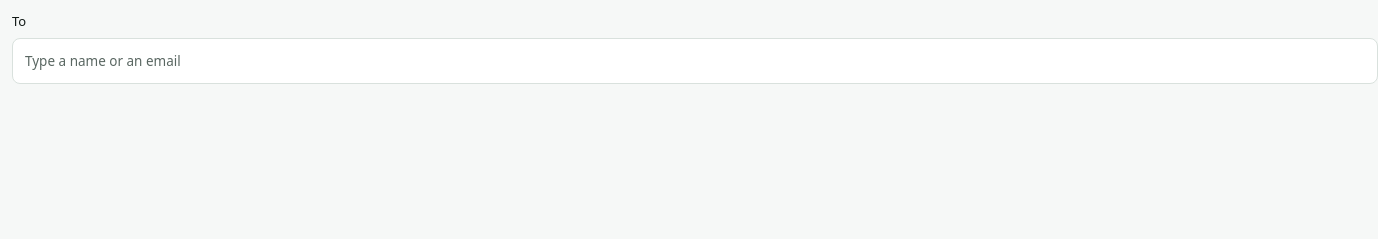
RecipientPicker › searches by name and shows company and department; arrows and Enter add
The width and height of the screenshot is (1378, 239).
Type "fa" into the dropdown labelled "To" at (695, 60), box [19,44,1371,76]
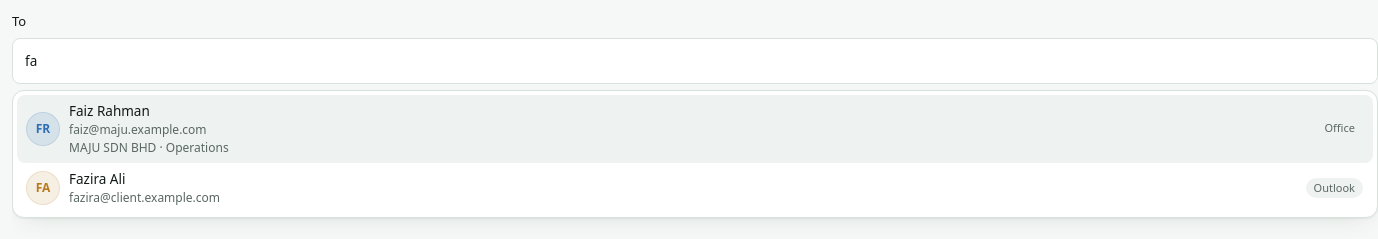
Check: the text "Faiz Rahman" is shown, box [69,102,150,120]
Check: the text "MAJU SDN BHD · Operations" is shown, box [69,139,229,156]
Press ArrowDown in the dropdown labelled "To", box [19,44,1371,76]
Press Enter in the dropdown labelled "To", box [19,44,1371,76]
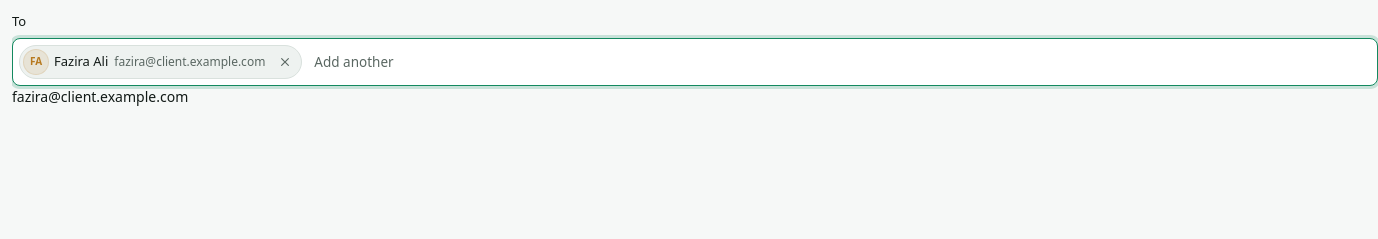
Check: the text "fazira@client.example.com" next to "Fazira Ali" is shown, box [114,52,265,70]
Check: the dropdown labelled "To" is empty, box [308,46,1371,78]
